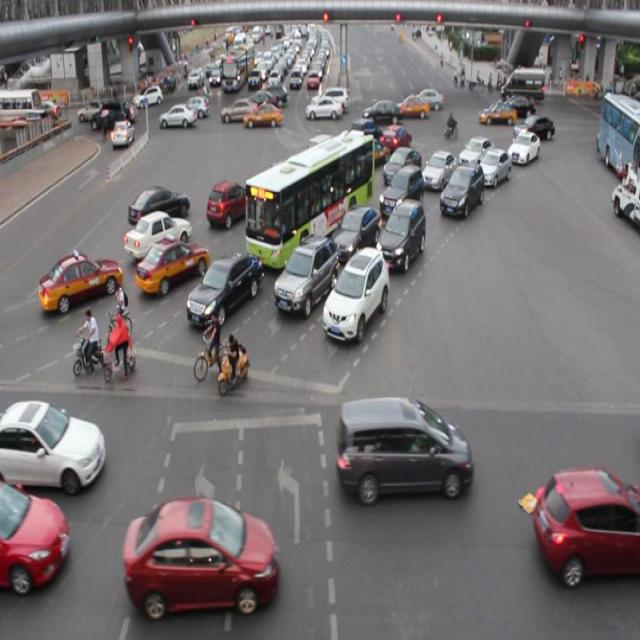car: (128, 494, 278, 614), (533, 468, 640, 576), (1, 399, 105, 490), (1, 481, 69, 593), (324, 246, 388, 339), (40, 251, 121, 311), (187, 256, 261, 319), (274, 238, 336, 311), (136, 238, 209, 296), (376, 198, 424, 270), (125, 210, 190, 261), (330, 206, 380, 266), (438, 162, 484, 222), (130, 185, 188, 231), (380, 165, 424, 217), (208, 182, 251, 226), (265, 161, 308, 202), (382, 145, 421, 190), (322, 151, 364, 192), (476, 149, 511, 189), (421, 148, 456, 187), (458, 136, 492, 174), (346, 118, 381, 152), (378, 123, 411, 159), (506, 131, 538, 166), (353, 134, 388, 166)
truck: (335, 396, 470, 499), (300, 134, 342, 175)
van: (245, 136, 373, 267)
